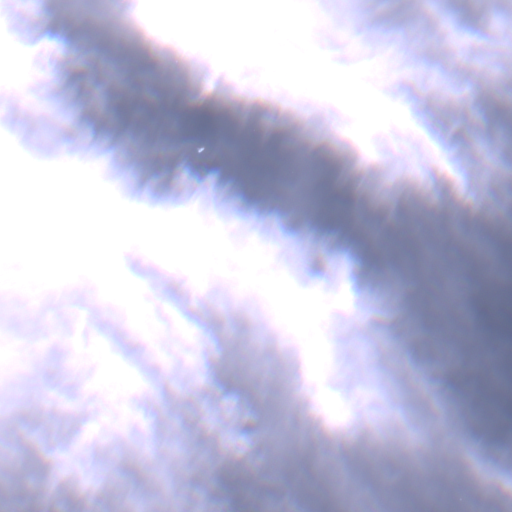Iceberg: (197, 147, 204, 152)
